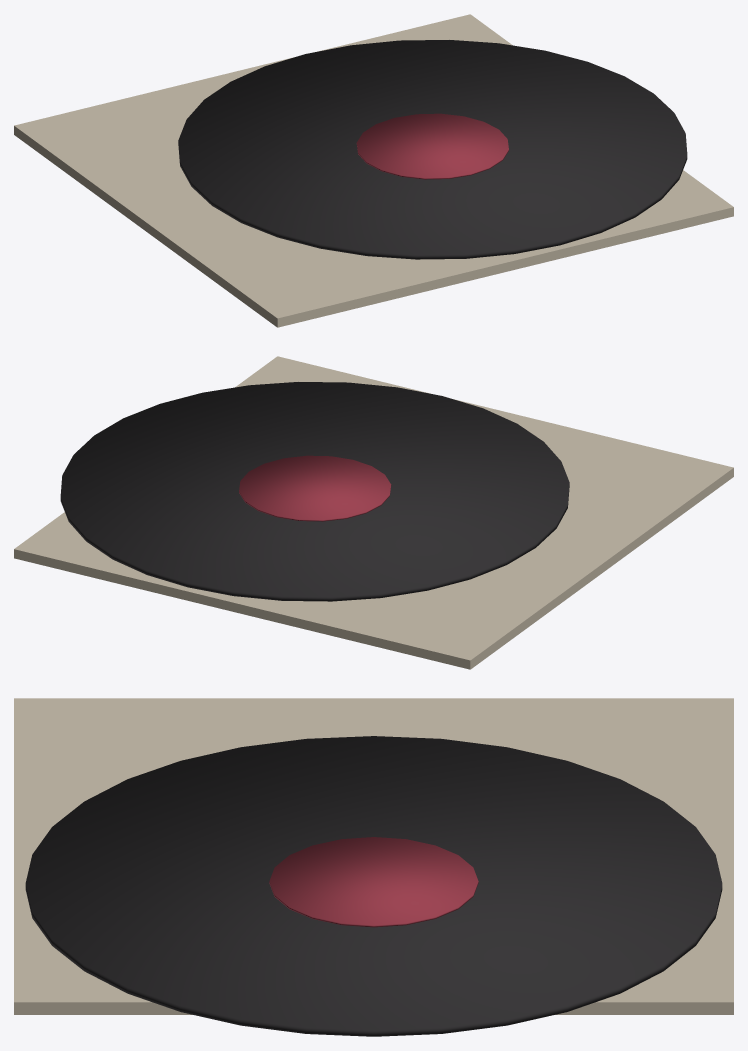
Rendered from Record.fbx.
3 views of the same model, one above another, from view 1: azimuth 30°, elevation 25°; view 2: azimuth 150°, elevation 25°; view 3: azimuth 270°, elevation 25° (orthographic). The views are drawn at different scales.
Parts seen in each view (by area): view 1: Record; view 2: Record; view 3: Record.
Boxes of the visible parts, <box> form: Record: <box>14,14,733,327</box>; Record: <box>14,356,733,669</box>; Record: <box>14,698,733,1036</box>.
Bounding box in the file's own units: 34.5 × 1 × 31.
